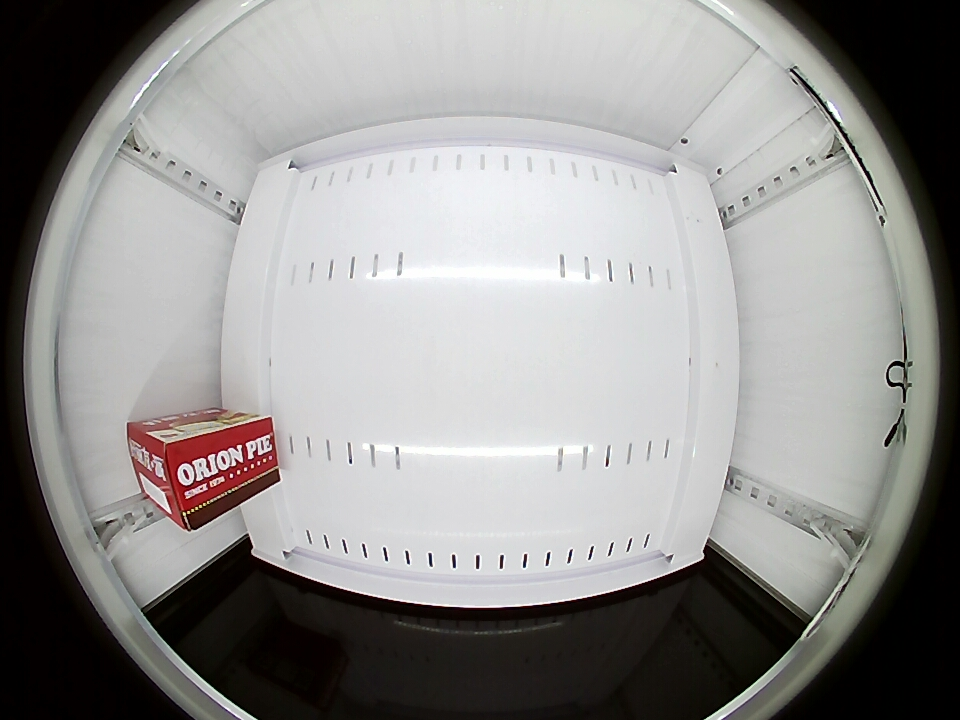haoliyou: (128, 416, 230, 531)
